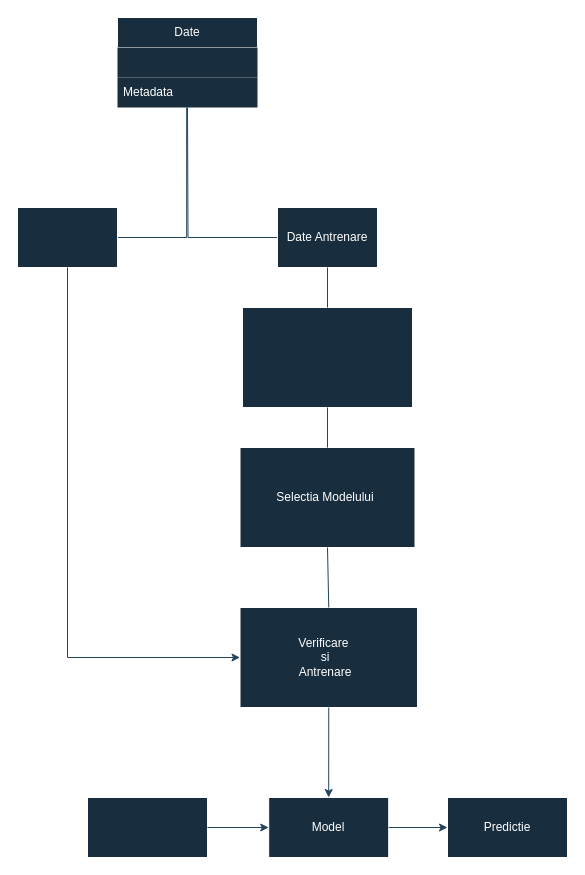
Some shapes in this 585 by 875 pixel diagram are drawn without their labels. The shapes that lost their labels are listed below. From the top down, each one's centre as x and y in pixels, then its label:
point 187,62: Matrice Corelatie
point 67,237: Date Testare
point 327,357: Extragere Caracteristici Relevate
point 147,827: Date WIDS
